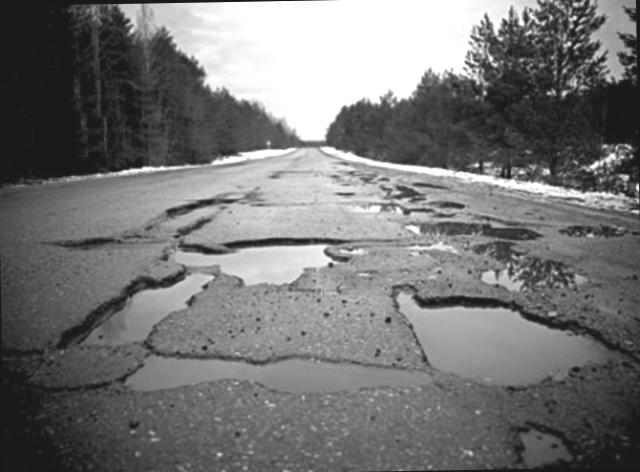Pothole: (49, 248, 426, 410), (368, 258, 638, 406), (19, 176, 265, 282), (459, 402, 592, 468), (405, 210, 549, 261), (554, 210, 630, 244)
